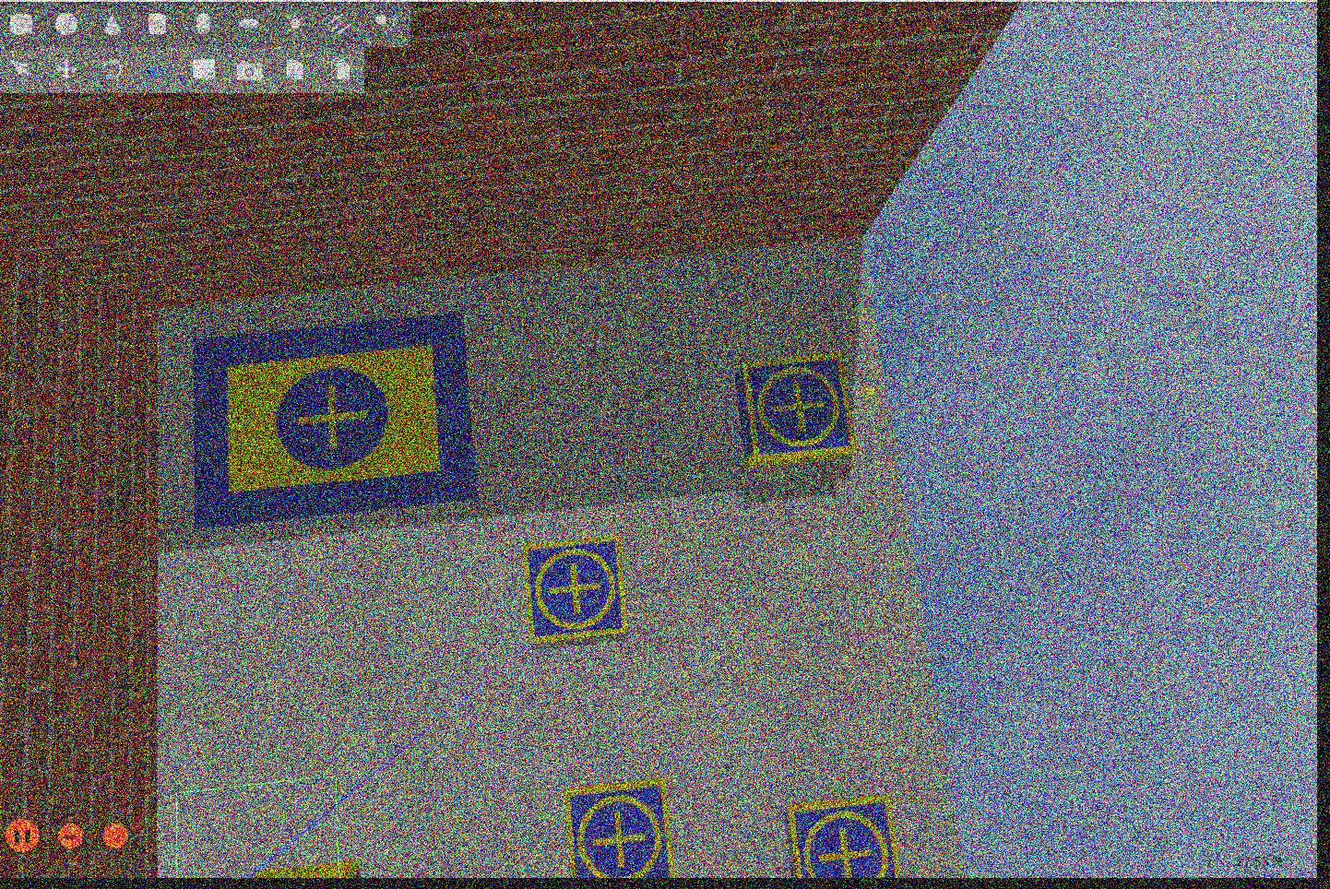large_base: (194, 314, 482, 534)
small_base: (739, 347, 857, 465), (523, 535, 630, 648), (564, 783, 675, 880), (784, 794, 903, 879)
